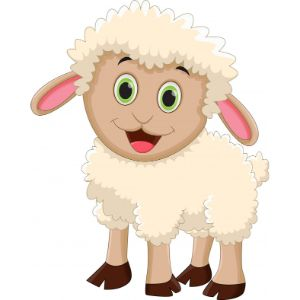sheep: (28, 1, 271, 299)
